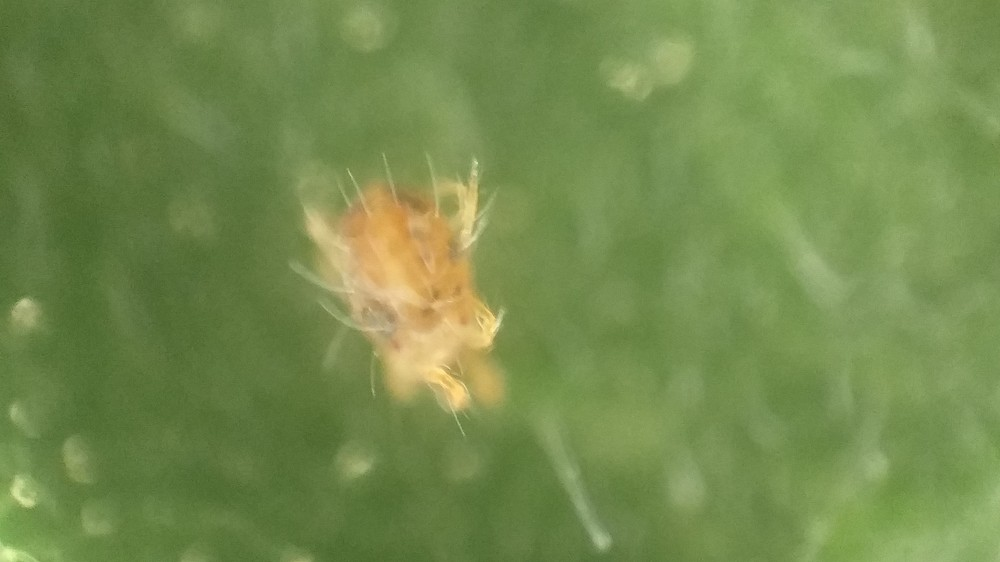Aracnido Rojo: (279, 146, 558, 436)
